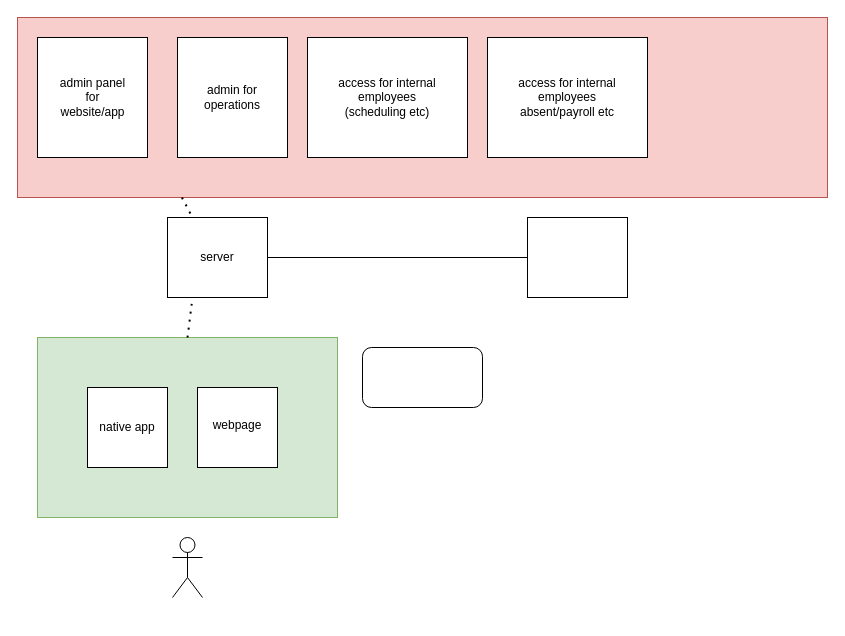
The diagram is 845 pixels wide and 636 high, and some of its shapes have lost their labels. The shapes that lost their labels are listed below. From the top down, each one's centre as x and y in pixels, then its label:
At (x=577, y=257): "database".
At (x=422, y=377): "Social Media".
At (x=187, y=567): "USER".
